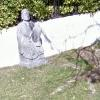Statue: (12, 3, 41, 69)
